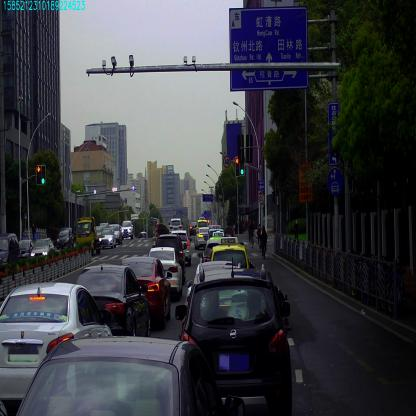traffic-light: (239, 155, 244, 175), (235, 157, 240, 176), (41, 165, 45, 185), (37, 165, 41, 184)
